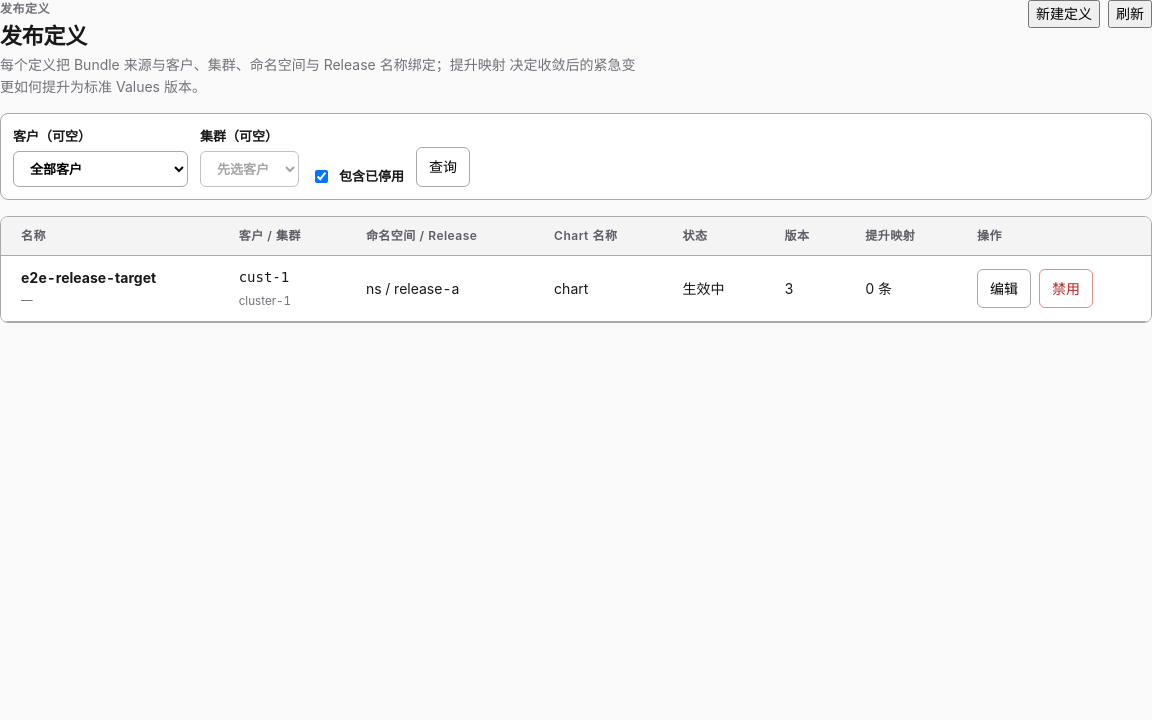
Test: DefinitionsPage create (TASK-301) › creates a definition from the dialog and shows the new row
Click the button with test id "definitions-create-open".
click(1064, 14)  # box [1028,0,1100,28]
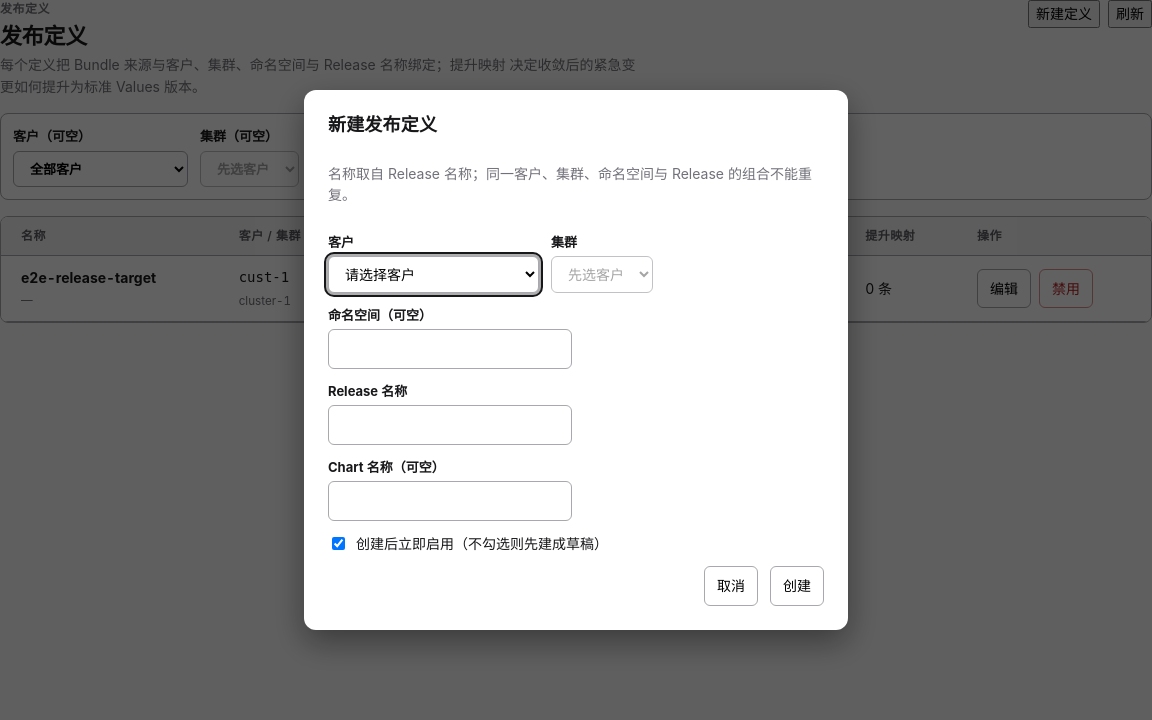
Check: the element with class "definitions__create" is shown, box [328,149,824,606]
Select "Cust One · 标识 cust-one" in the dropdown labelled "客户" at (434, 275), box [328,256,539,293]
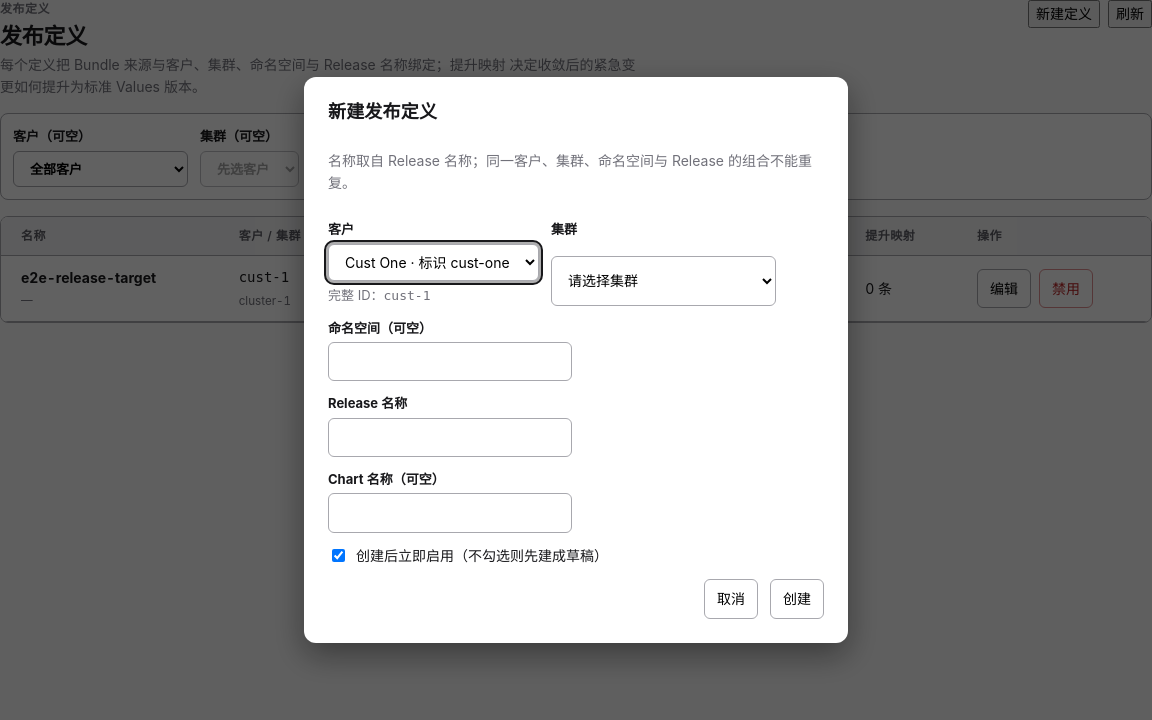
Select "Cluster One · 集群 cluster-1" in the dropdown labelled "集群" at (664, 281), box [551,256,776,306]
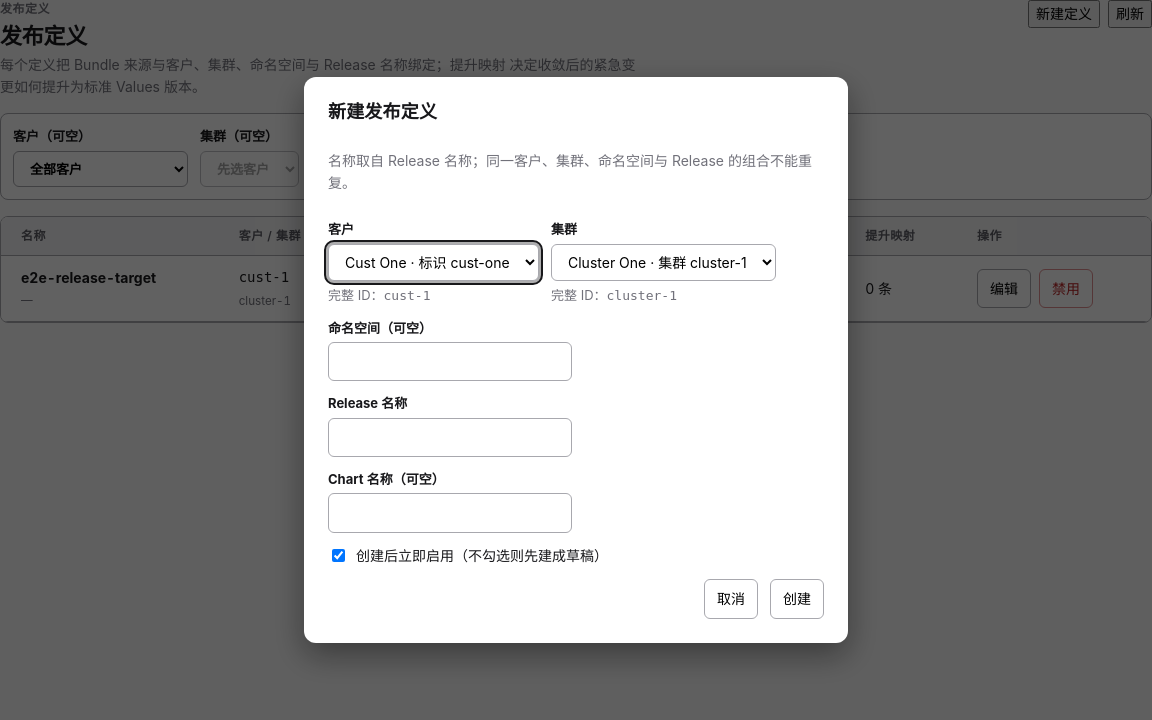
Type "new-def" into the field labelled "Release 名称".
click(450, 437); type("new-def")  # box [328,418,572,457]
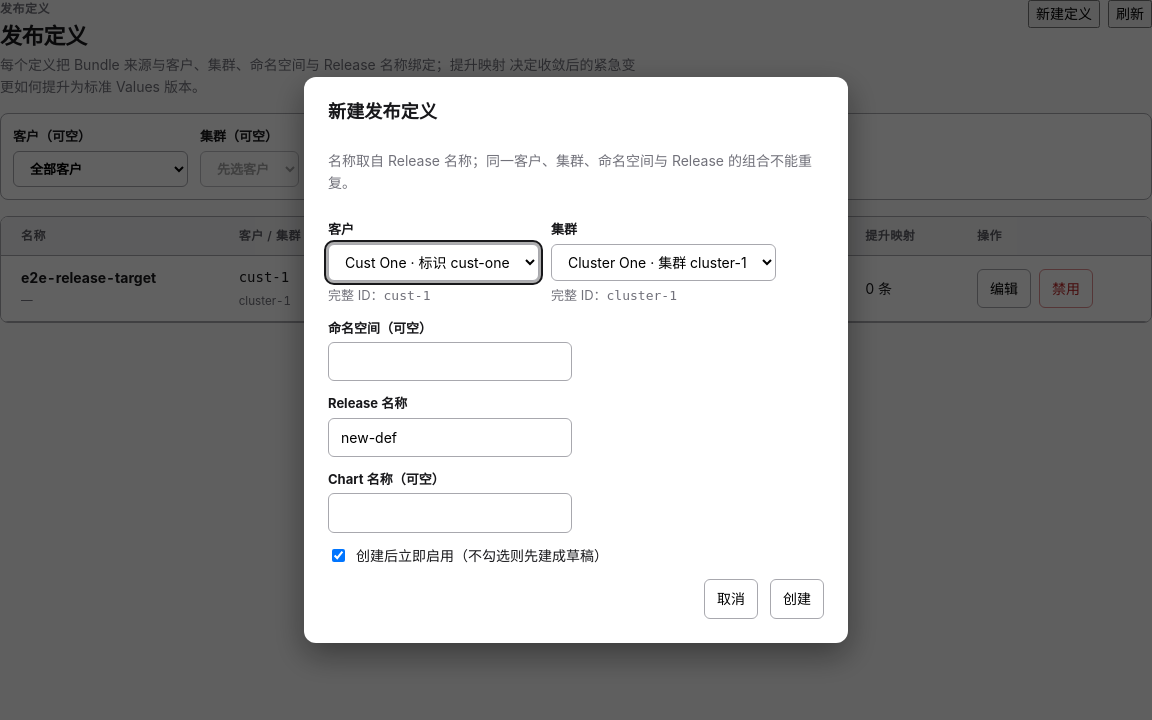
Submit the form, box [328,219,824,618]
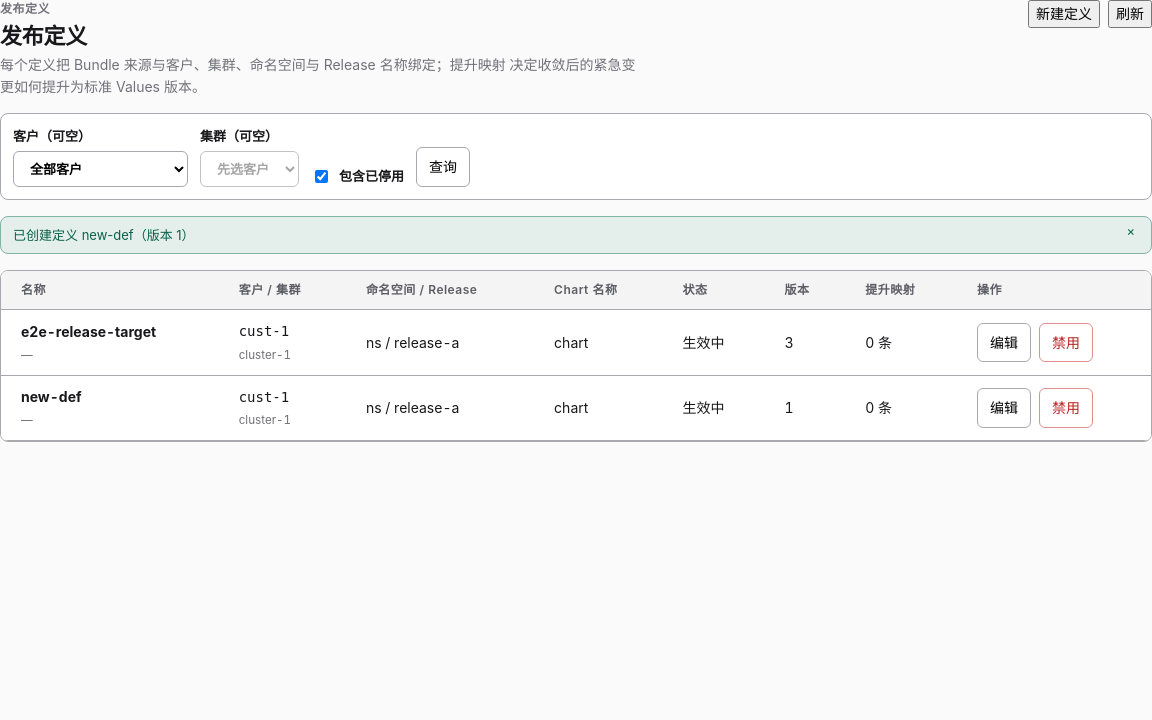
Check: the row with test id "definition-row-def-2" is shown, box [1,375,1151,441]
Check: the message with test id "definitions-notice" shows "new-def", box [13,227,195,243]
Check: the button with test id "definitions-create-submit" is gone
